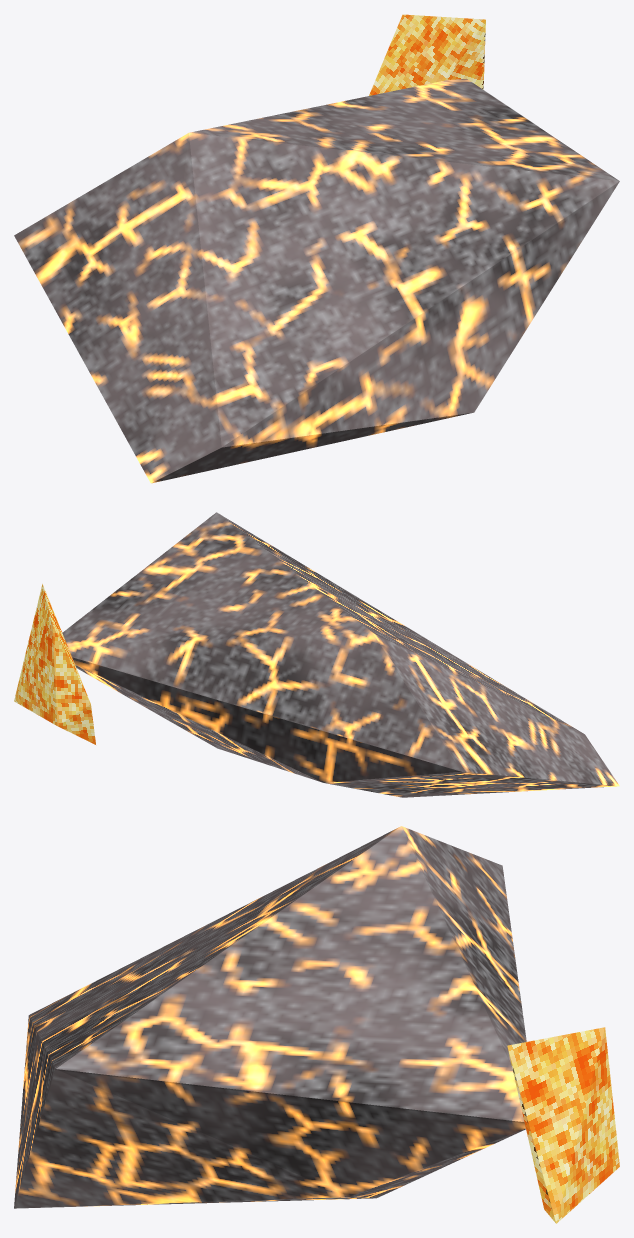
File: debris_02.glb
The picture shows the model from 3 angles, top to bottom: view 1: azimuth 30°, elevation 25°; view 2: azimuth 150°, elevation 25°; view 3: azimuth 270°, elevation 25°; orthographic projection. The views are drawn at different scales.
Parts seen in each view (by area): view 1: debris_02_hull, debris_02_hot; view 2: debris_02_hull, debris_02_hot; view 3: debris_02_hull, debris_02_hot.
Part boxes in pixels (x1,y1,x2,y2): debris_02_hull: (14,79,619,483); debris_02_hot: (369,14,485,95); debris_02_hull: (62,512,619,797); debris_02_hot: (14,584,95,744); debris_02_hull: (14,826,526,1208); debris_02_hot: (507,1027,619,1223).
Bounding box in the file's own units: 3.21 × 1.51 × 2.43.
Materials: 2 (2 with a texture image).
